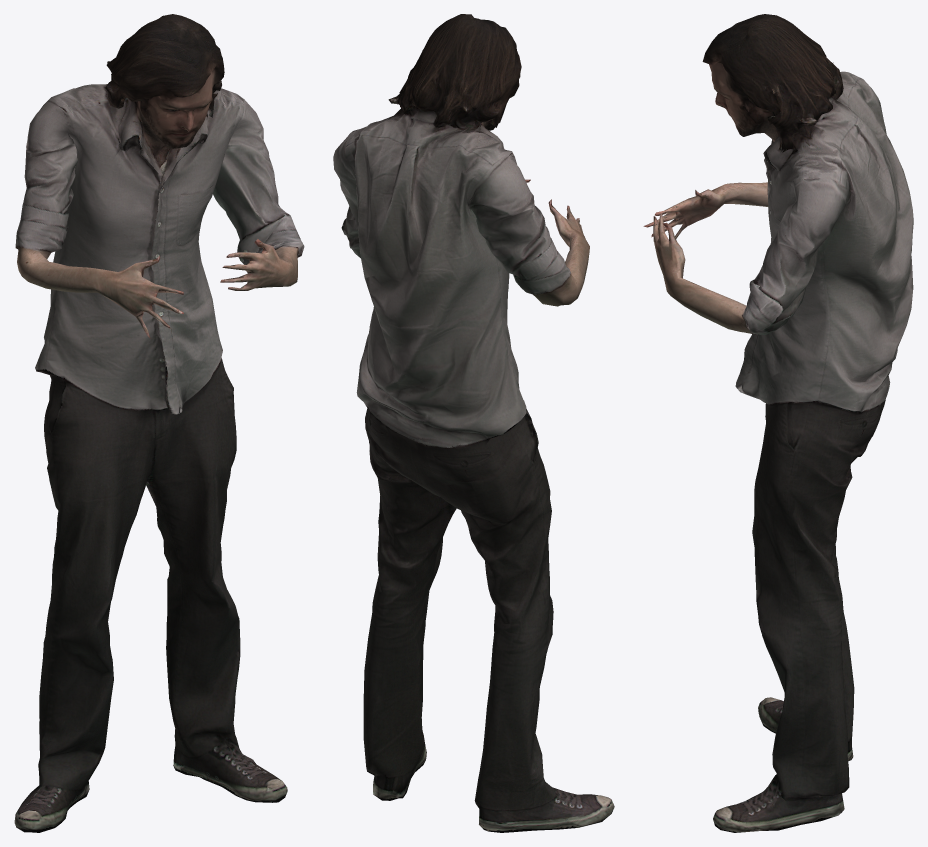
The model's file is SelfMesh.fbx.
The picture shows the model from 3 angles, left to right: view 1: azimuth 30°, elevation 25°; view 2: azimuth 150°, elevation 25°; view 3: azimuth 270°, elevation 25°; orthographic projection. The views are drawn at different scales.
Visible parts, largest first — view 1: Mesh1; view 2: Mesh1; view 3: Mesh1.
Boxes of the visible parts, x1,y1,x2,y2 form: Mesh1: [14, 14, 304, 832]; Mesh1: [333, 14, 614, 832]; Mesh1: [643, 14, 913, 832].
Size of the model in its own units: 0.6466 by 1.77 by 0.5609.
1 material, 1 textured.
